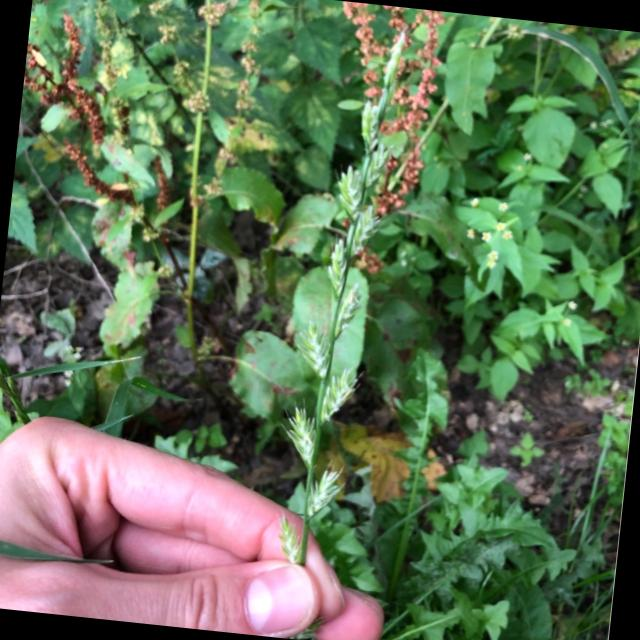Lolium: (270, 42, 408, 586)
